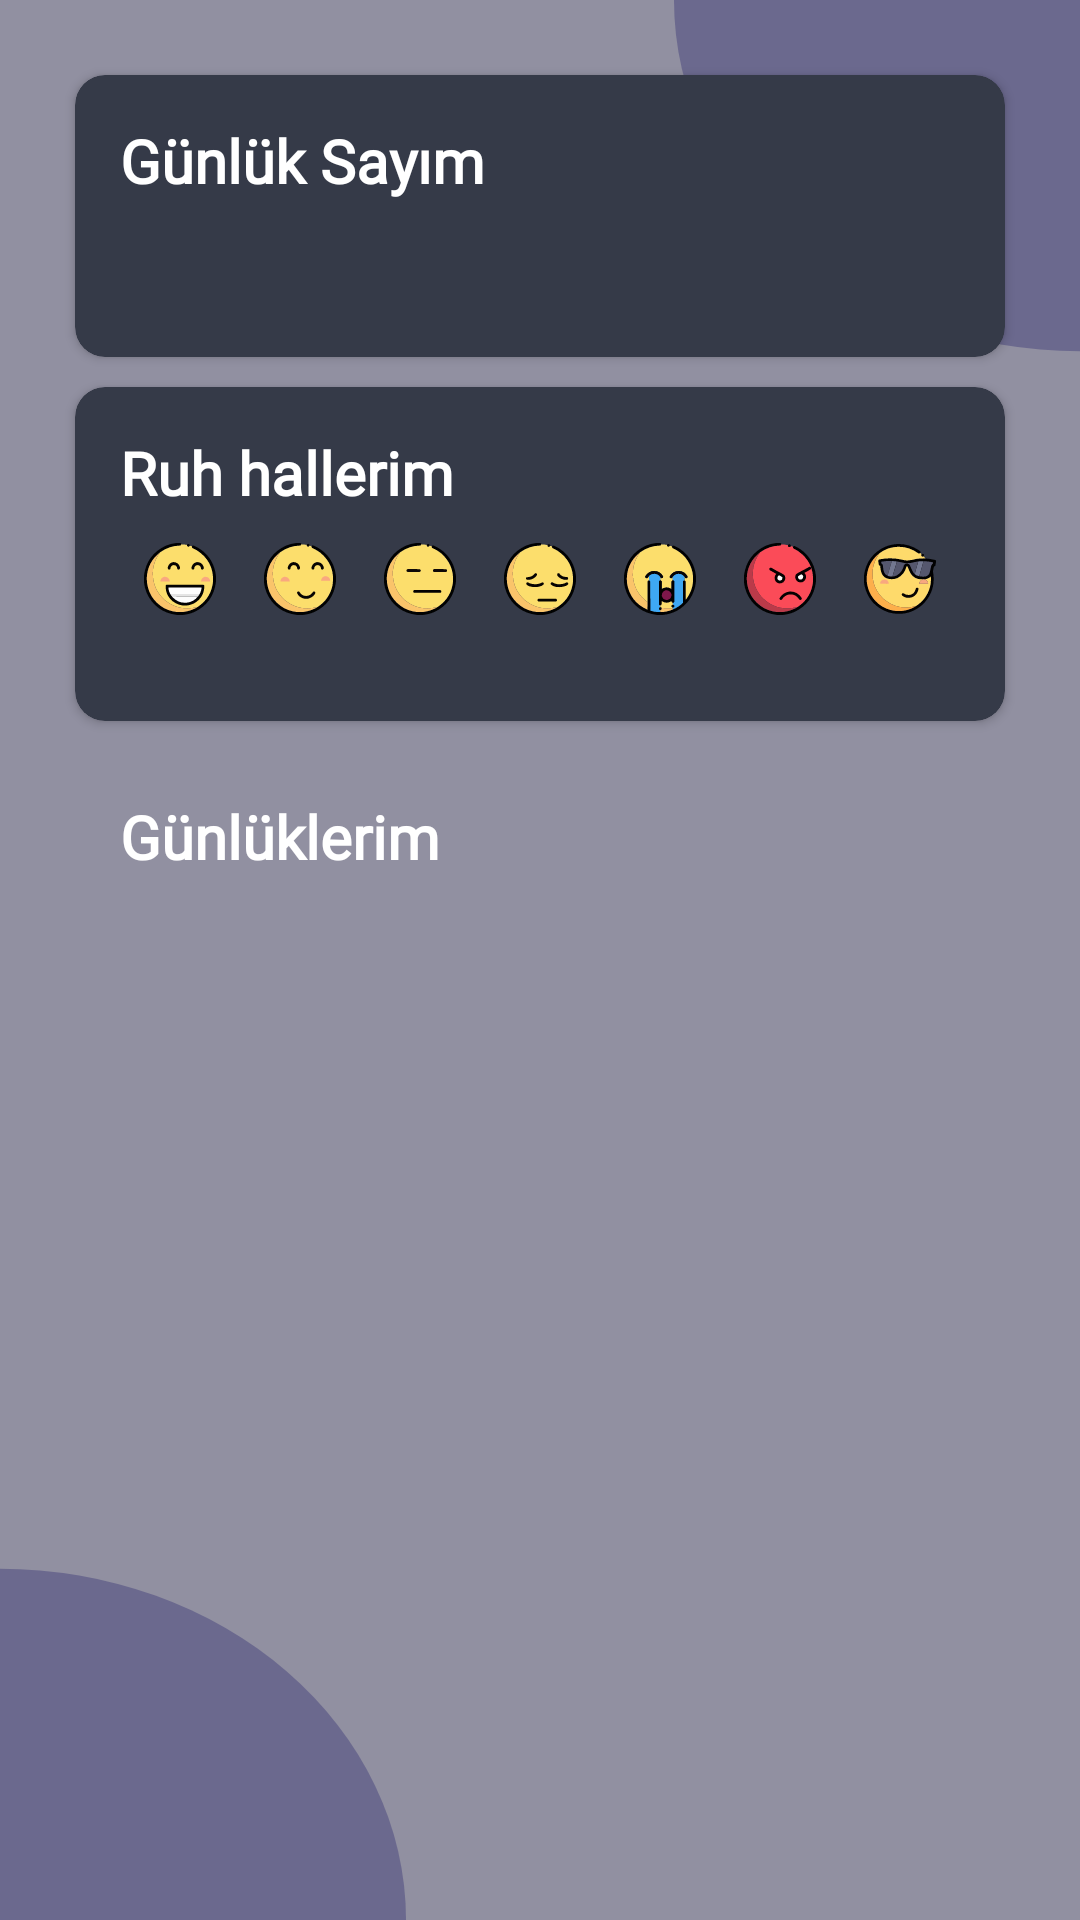

Locate icon controls on the screen. Image size 1080*1920, boxes as bbox=[x1, y1, x2, y2].
Ağlamaklı hissediyor: bbox=[624, 543, 696, 615]
Havalı hissediyor: bbox=[864, 544, 936, 614]
İfadesiz hissediyor: bbox=[384, 543, 456, 615]
Mutlu hissediyor: bbox=[264, 543, 336, 615]
Sinirli hissediyor: bbox=[744, 543, 816, 615]
Çok mutlu hissediyor: bbox=[144, 543, 216, 615]
Üzgün hissediyor: bbox=[504, 543, 576, 615]
